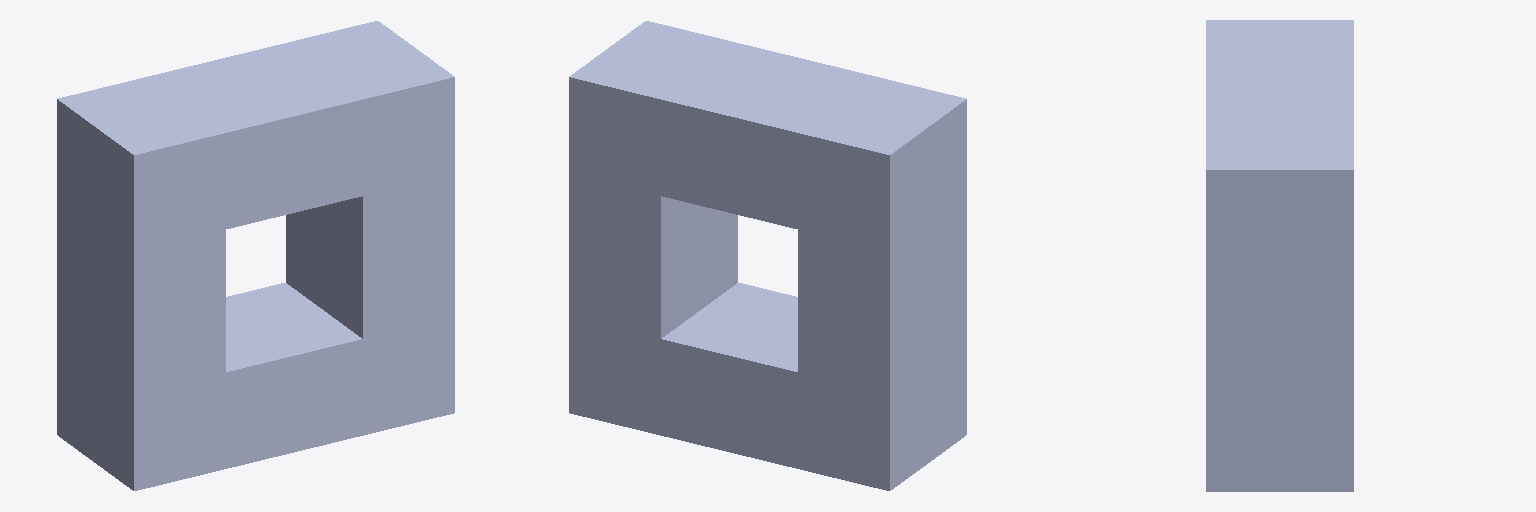
URDF robot description (hole.SLDPRT):
<?xml version="1.0" encoding="utf-8"?>
<!-- This URDF was automatically created by SolidWorks to URDF Exporter! Originally created by [author] ([email redacted]) 
     Commit Version: 1.5.1-0-g916b5db  Build Version: 1.5.7152.31018
     For more information, please see http://wiki.ros.org/sw_urdf_exporter -->
<robot
  name="hole.SLDPRT">
  <link
    name="hole">
    <inertial>
      <origin
        xyz="0.0 -0.025 0.0"
        rpy="0 0 0" />
      <mass
        value="5.0" />
      <inertia
        ixx="0.003"
        ixy="0.0"
        ixz="0.0"
        iyy="0.003"
        iyz="0.0"
        izz="0.003" />
    </inertial>
    <visual>
      <origin
        xyz="0 0 0"
        rpy="1.5707963267949 0 0" />
      <geometry>
        <mesh
          filename="../meshes/hole.STL" />
      </geometry>
      <material
        name="stainless">
        <color
          rgba="0.79216 0.81961 0.93333 1" />
      </material>
    </visual>
    <collision>
      <origin
        xyz="0 0 0"
        rpy="1.5707963267949 0 0" />
      <geometry>
        <mesh
          filename="../meshes/hole.STL" />
      </geometry>
    </collision>
  <gazebo>
    <static>true</static>
  </gazebo>

  </link>
</robot>

--- Facts derived from the render (not from the file) ---
3 views of the same robot in one strip: view 1: azimuth 30°, elevation 25°; view 2: azimuth 150°, elevation 25°; view 3: azimuth 270°, elevation 25° (orthographic).
Model hole.SLDPRT with 1 links and 0 joints (none), rooted at hole, posed all joints at 0.
Visible links, largest first — view 1: hole; view 2: hole; view 3: hole.
Link boxes in pixels (x1=…): hole: x1=57, y1=21, x2=454, y2=490; hole: x1=569, y1=21, x2=966, y2=490; hole: x1=1206, y1=20, x2=1353, y2=491.
Size in the robot's own frame: 0.12 by 0.05 by 0.12 metres.
1 mesh visuals loaded from 1 distinct referenced files (1 binary STL).